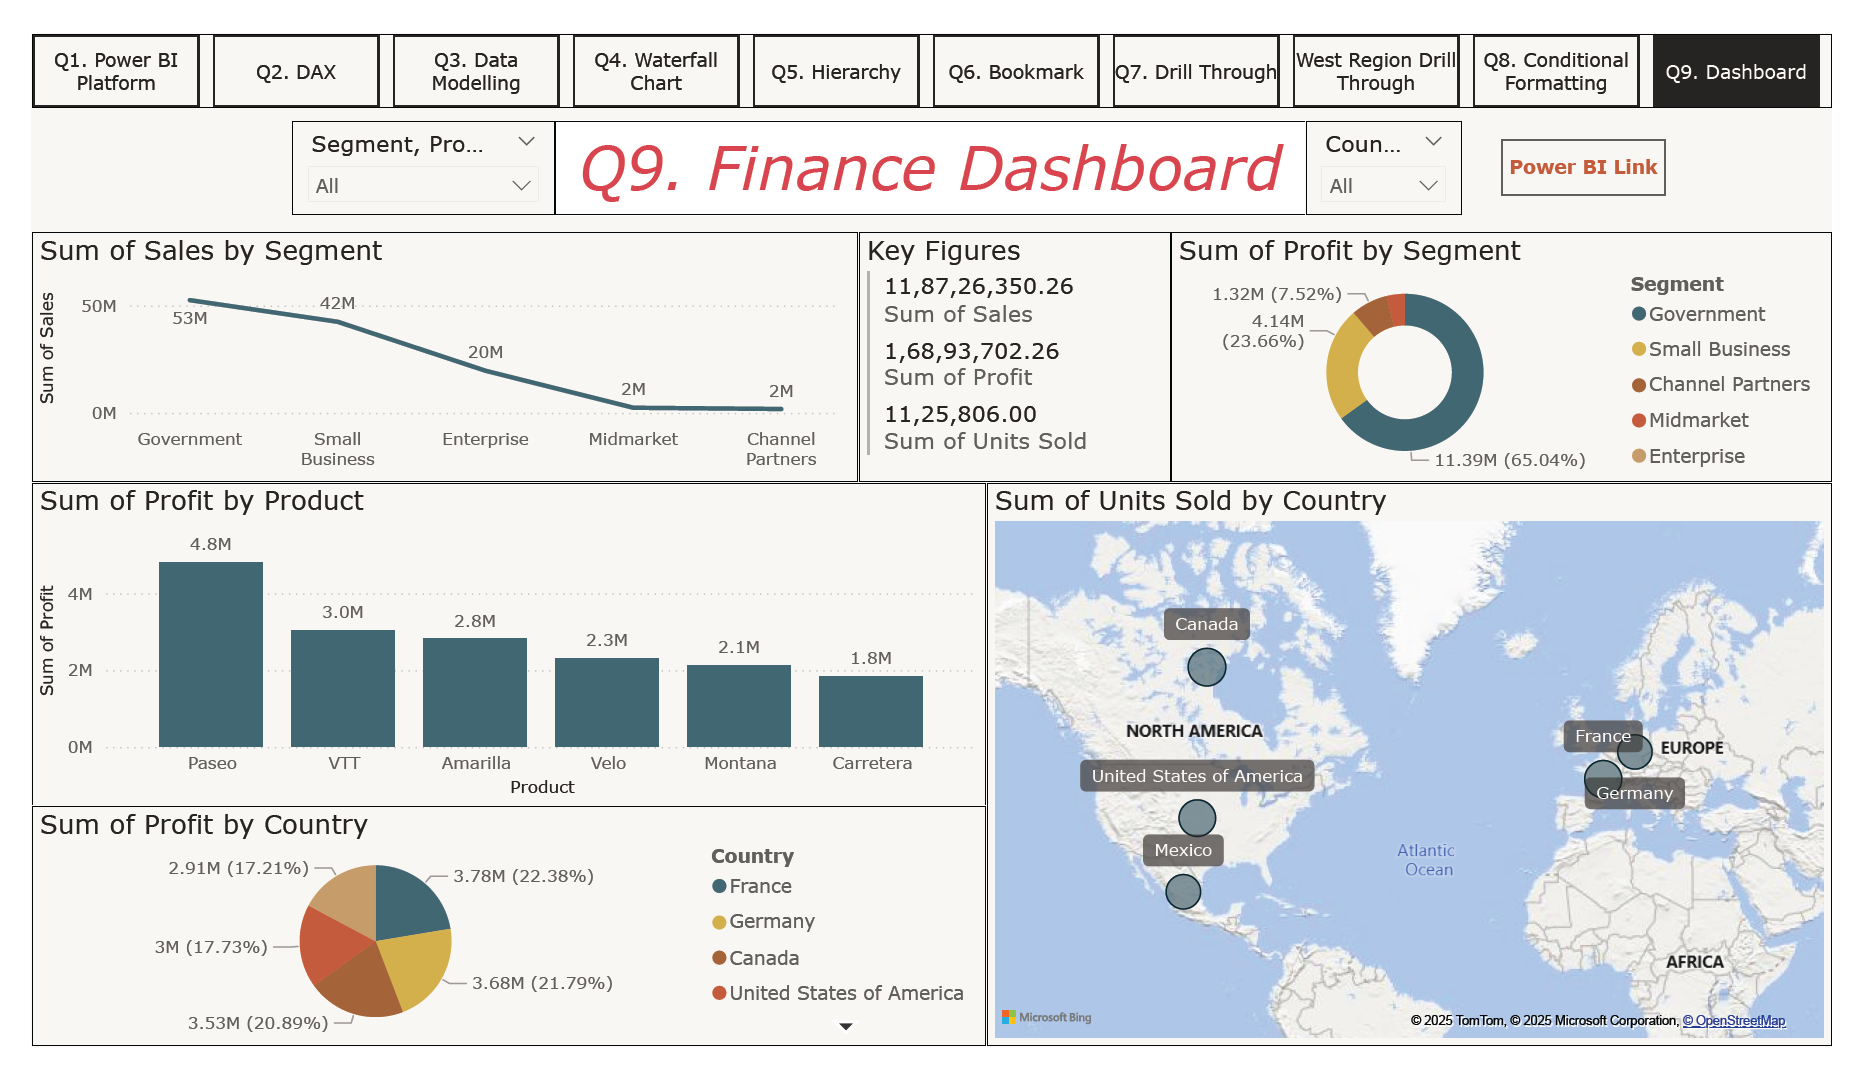

The page's visual inventory and layout, read from the dashboard file:
{"tool":"powerbi","page":{"name":"Q9. Dashboard","canvas":[1280,720],"ordinal":9},"visuals":[{"type":"textbox","box":[371.6,61.5,534.5,67.6],"z":0},{"type":"columnChart","fields":{"Y":["Sum(financials.Profit)"],"Category":["financials.Product"]},"box":[0,318.5,679.2,230.4],"z":1000},{"type":"pieChart","fields":{"Category":["financials.Country"],"Y":["Sum(financials.Profit)"]},"box":[0,548.9,679.2,171.3],"z":2000},{"type":"map","fields":{"Category":["financials.Country"],"Size":["Sum(financials.Units Sold)"]},"box":[679.2,318.5,600.8,401.7],"z":3000},{"type":"donutChart","fields":{"Category":["financials.Segment"],"Y":["Sum(financials.Profit)"]},"box":[809.5,141.2,470.5,177.3],"z":4000},{"type":"multiRowCard","title":"Key Figures","fields":{"Values":["Sum(financials. Sales)","Sum(financials.Profit)","Sum(financials.Units Sold)"]},"box":[587.5,141.2,222,177.3],"z":5000},{"type":"lineChart","fields":{"Category":["financials.Segment"],"Y":["Sum(financials. Sales)"]},"box":[0,141.2,587.5,177.3],"z":6000},{"type":"slicer","fields":{"Values":["financials.Country"]},"box":[906,61.5,111,67.6],"z":7000},{"type":"slicer","fields":{"Values":["financials.Segment","financials.Product"]},"box":[184.6,61.5,187,67.6],"z":8000},{"type":"pageNavigator","box":[0,0,1280,53.1],"z":9000},{"type":"actionButton","box":[1044.8,74.8,117,39.8],"z":9001}]}

Visuals, with their boxes on the page's 1280x720 design canvas (x1, y1, x2, y2). These are canvas units, not pixel positions in the 1862x1079 screenshot, which may show the page scaled, cropped or inside an application window:
textbox: region(372, 62, 906, 129)
columnChart - Sum(financials.Profit) x financials.Product: region(0, 318, 679, 549)
pieChart - financials.Country x Sum(financials.Profit): region(0, 549, 679, 720)
map - financials.Country x Sum(financials.Units Sold): region(679, 318, 1280, 720)
donutChart - financials.Segment x Sum(financials.Profit): region(810, 141, 1280, 318)
"Key Figures" multiRowCard: region(588, 141, 810, 318)
lineChart - financials.Segment x Sum(financials. Sales): region(0, 141, 588, 318)
slicer - financials.Country: region(906, 62, 1017, 129)
slicer - financials.Segment x financials.Product: region(185, 62, 372, 129)
pageNavigator: region(0, 0, 1280, 53)
actionButton: region(1045, 75, 1162, 115)
